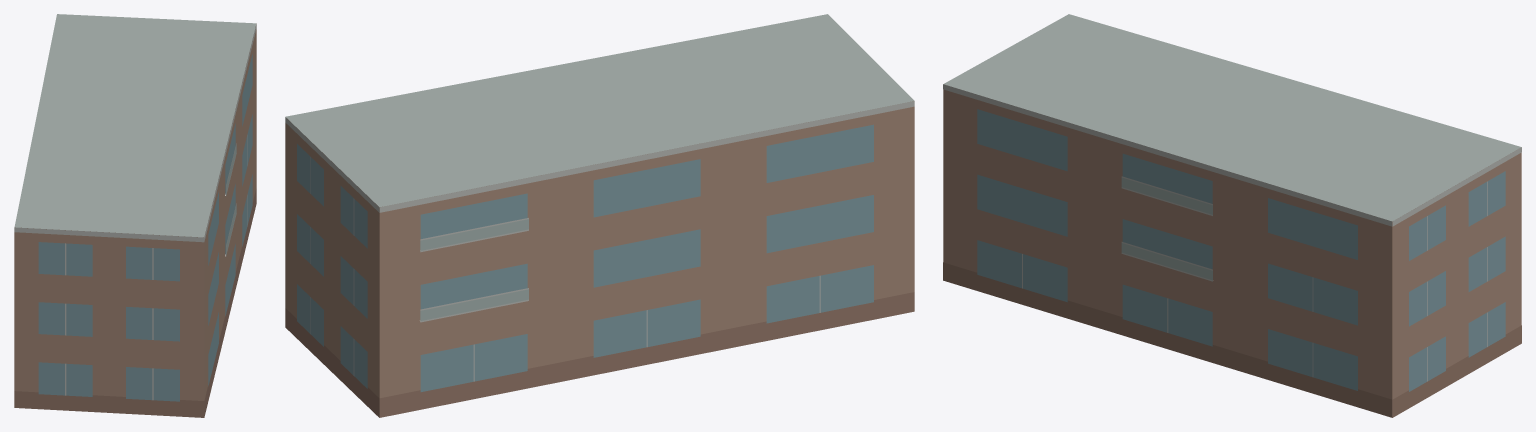
The model's file is survey-upis-32668478.glb.
3 views of the same model, side by side, from view 1: azimuth 30°, elevation 25°; view 2: azimuth 150°, elevation 25°; view 3: azimuth 270°, elevation 25° (orthographic). The views are drawn at different scales.
Visible parts, largest first — view 1: survey-upis-32668478.tmp; view 2: survey-upis-32668478.tmp; view 3: survey-upis-32668478.tmp.
Boxes of the visible parts, bbox=[...] form: survey-upis-32668478.tmp: bbox=[14, 14, 256, 417]; survey-upis-32668478.tmp: bbox=[285, 14, 914, 417]; survey-upis-32668478.tmp: bbox=[943, 14, 1521, 417].
Bounding box in the file's own units: 20.74 × 9.15 × 24.44.
